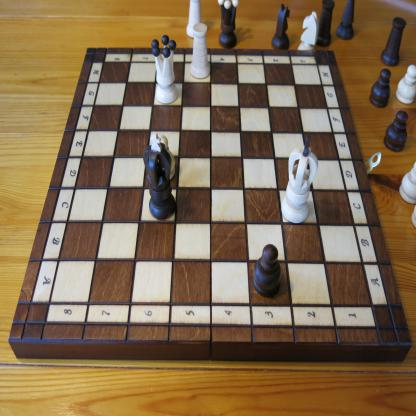black-bishop: (336, 0, 356, 39)
black-king: (142, 131, 177, 221)
black-knight: (271, 3, 291, 49)
black-pawn: (252, 242, 282, 300), (383, 110, 409, 154), (369, 68, 391, 110)
black-queen: (217, 0, 238, 49)
black-rook: (379, 17, 406, 68), (316, 0, 336, 46)
white-king: (280, 133, 319, 225)
white-knight: (298, 11, 320, 51)
white-pawn: (151, 135, 176, 185), (395, 63, 415, 106), (398, 160, 416, 206)
white-queen: (150, 33, 178, 105)
white-rook: (190, 22, 212, 80), (185, 0, 205, 40)
